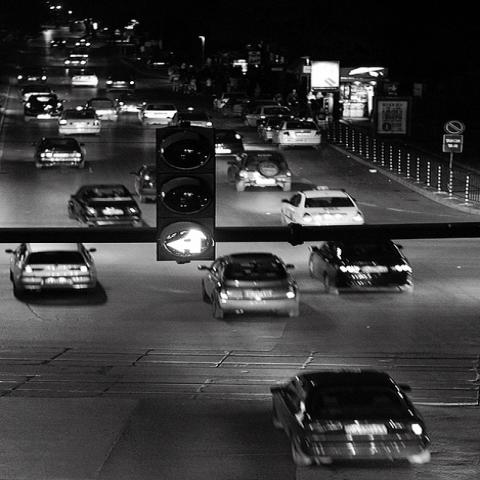car: (11, 0, 293, 137), (263, 372, 428, 461), (197, 253, 300, 319), (307, 236, 414, 296), (4, 243, 98, 298), (66, 184, 143, 228), (281, 187, 365, 226), (226, 151, 292, 191), (265, 113, 322, 148), (31, 136, 87, 170), (56, 110, 102, 137), (210, 129, 244, 162), (131, 163, 157, 202), (138, 104, 178, 126)
